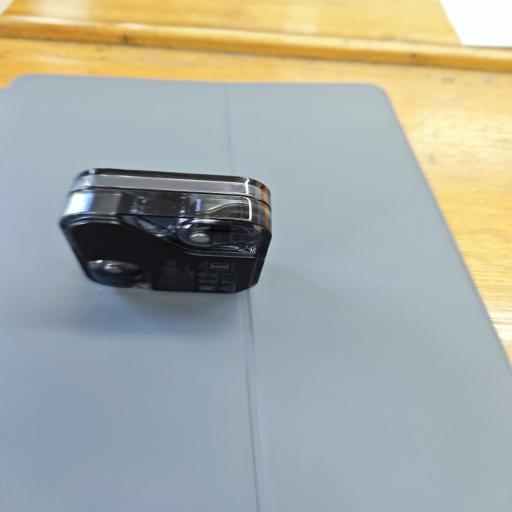Headphones: (48, 156, 280, 298)
